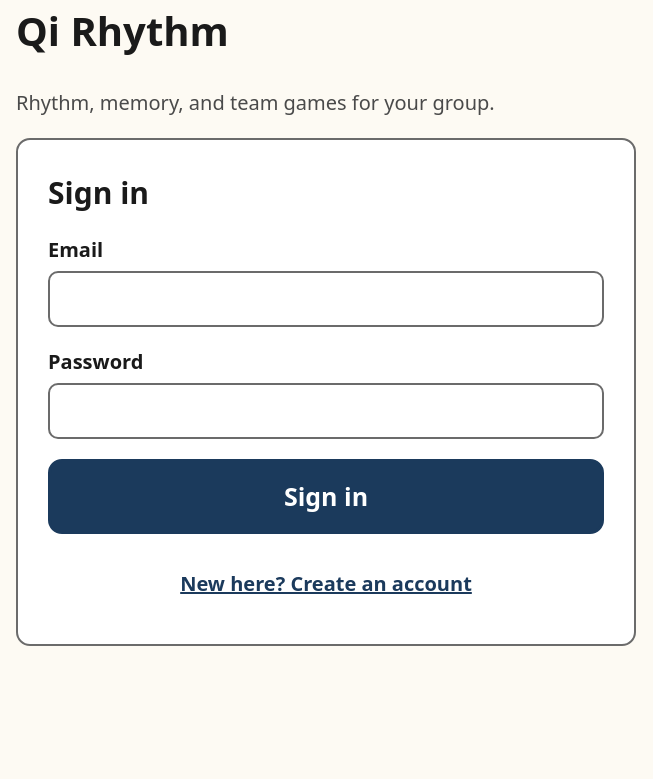
Scenario: shows a plain-language error
The image size is (653, 779).
In the field labelled "Email": (326, 299) [48,271,604,327], type "c@example.com"
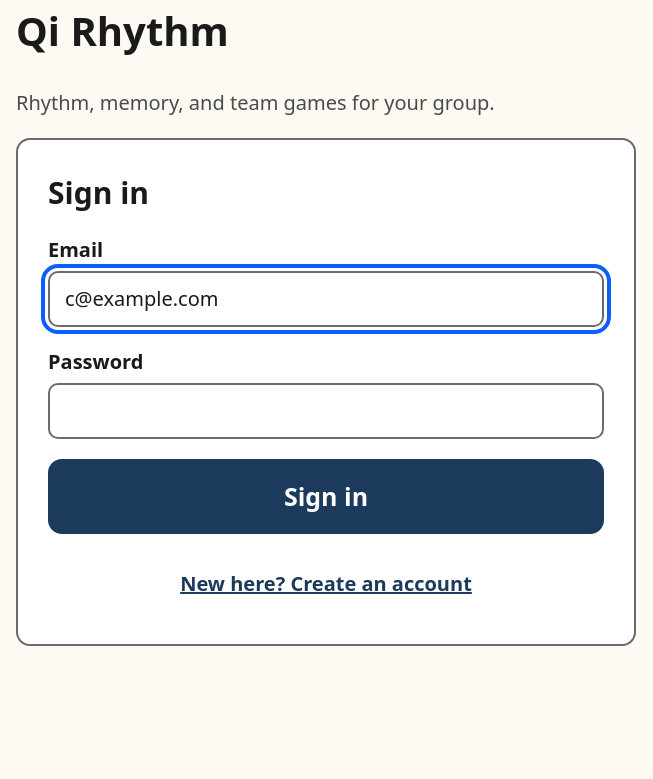
In the password field labelled "Password": (326, 411) [48,383,604,439], type "nope"
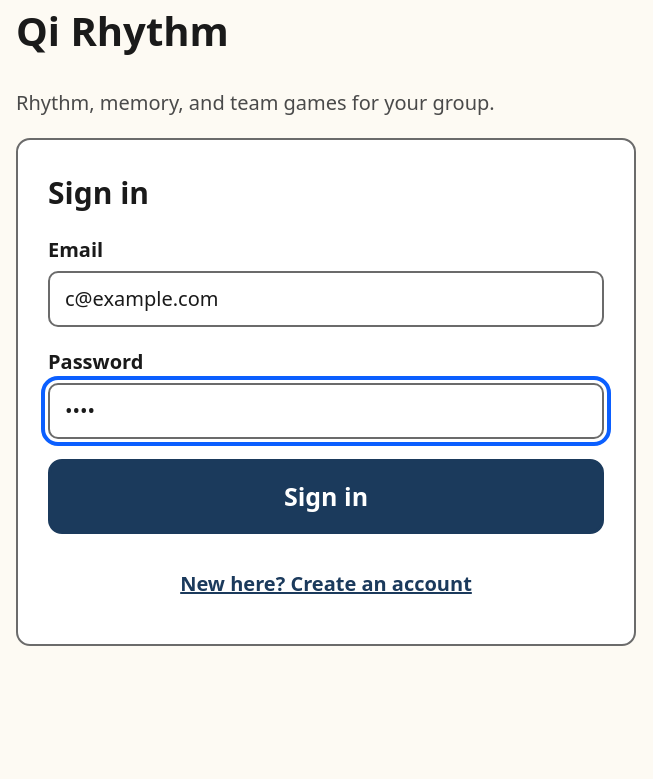
Click the button "Sign in": (326, 496) [48,459,604,534]
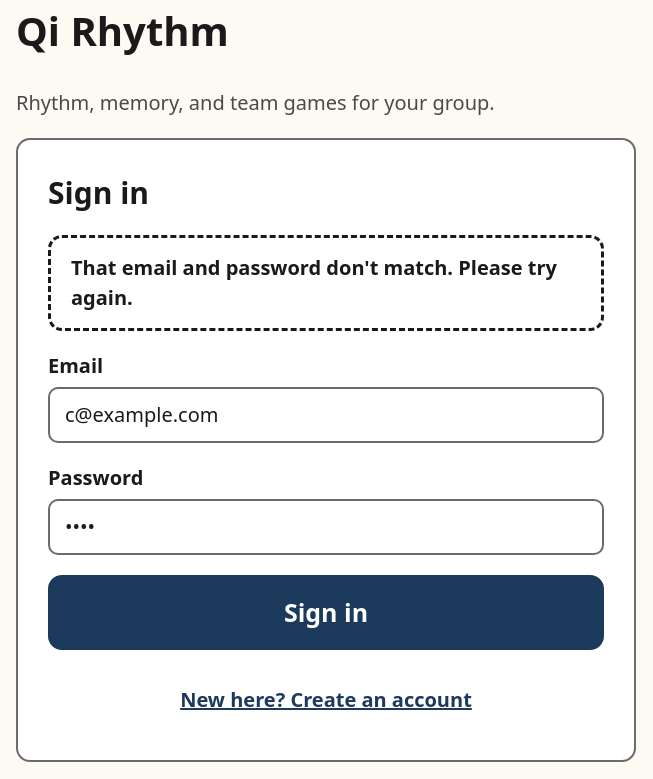
Expected: the message shows "don't match", [71,254,557,311]
